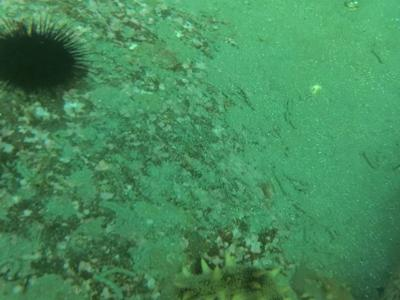holothurian: (161, 248, 297, 297), (302, 271, 358, 297)
urchin: (3, 15, 101, 105)
